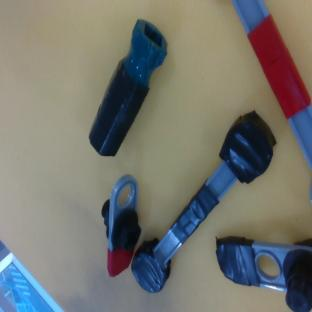part_1_good: (100, 174, 143, 277)
part_2_bad: (78, 17, 176, 162)
part_3_bad: (112, 106, 290, 297)
